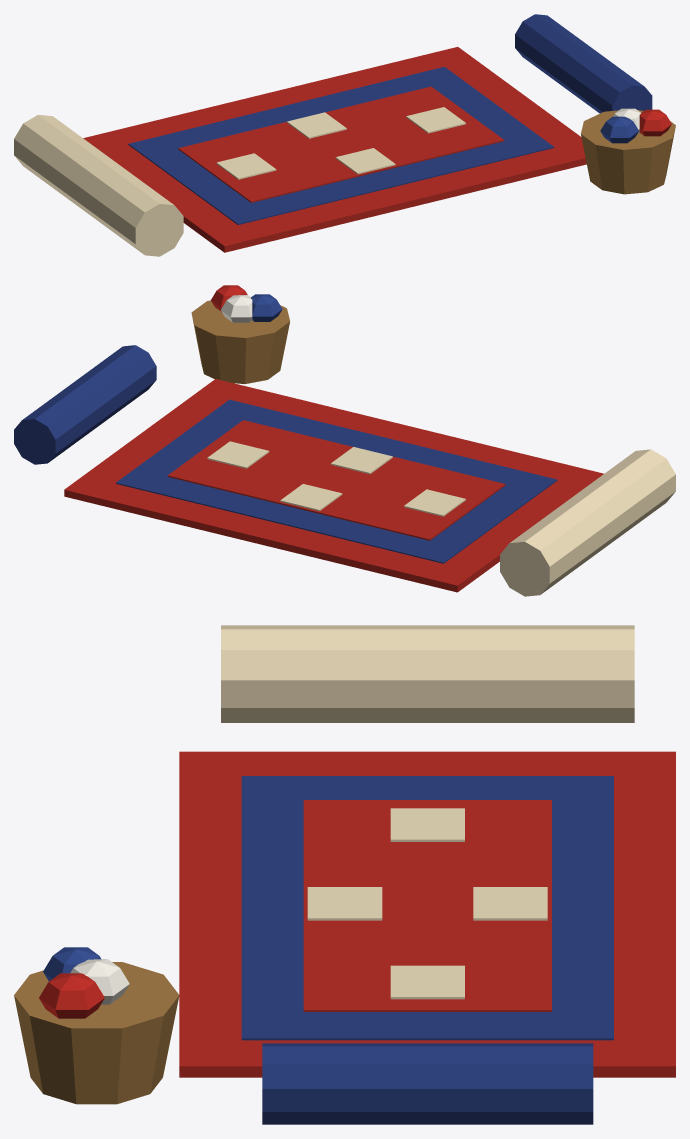
Rendered from Shyrdak_Workplace.obj.
The picture shows the model from 3 angles, top to bottom: view 1: azimuth 30°, elevation 25°; view 2: azimuth 150°, elevation 25°; view 3: azimuth 270°, elevation 25°; orthographic projection. The views are drawn at different scales.
Parts seen in each view (by area): view 1: Shyrdak_Workplace; view 2: Shyrdak_Workplace; view 3: Shyrdak_Workplace.
Part boxes in pixels (bbox=[...]): Shyrdak_Workplace: bbox=[14, 14, 675, 256]; Shyrdak_Workplace: bbox=[14, 285, 675, 596]; Shyrdak_Workplace: bbox=[14, 625, 675, 1124].
Bounding box in the file's own units: 2.51 × 0.31 × 1.6.
